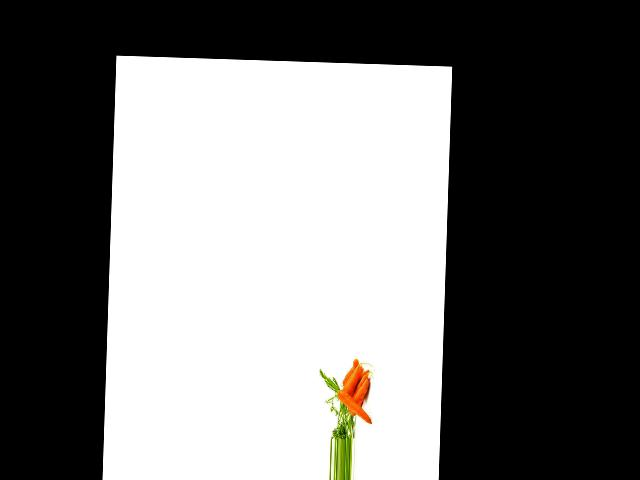carrot: (348, 371, 369, 418)
